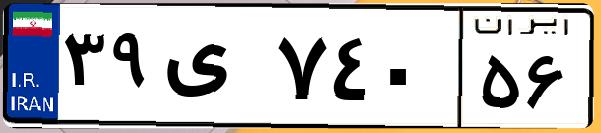0: (385, 28, 445, 110)
3: (57, 26, 110, 100)
4: (330, 28, 385, 110)
5: (475, 38, 525, 113)
6: (525, 38, 570, 115)
7: (270, 28, 330, 110)
9: (110, 28, 158, 98)
ی: (158, 20, 270, 120)
